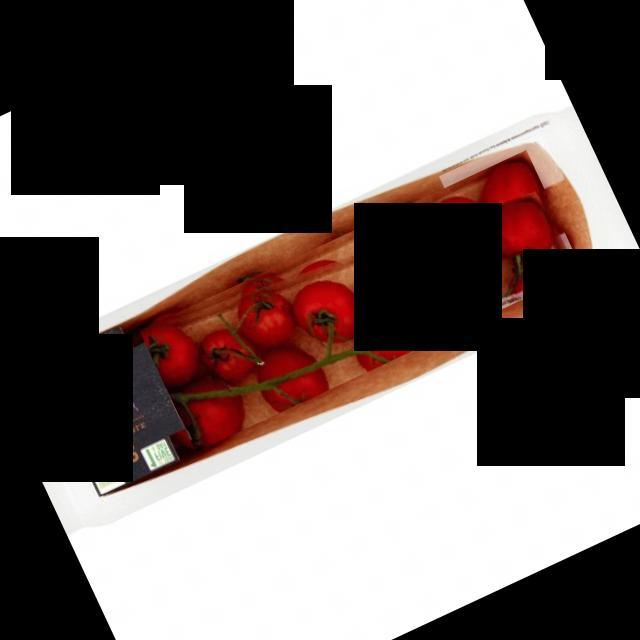tomatoes: (139, 150, 583, 452)
